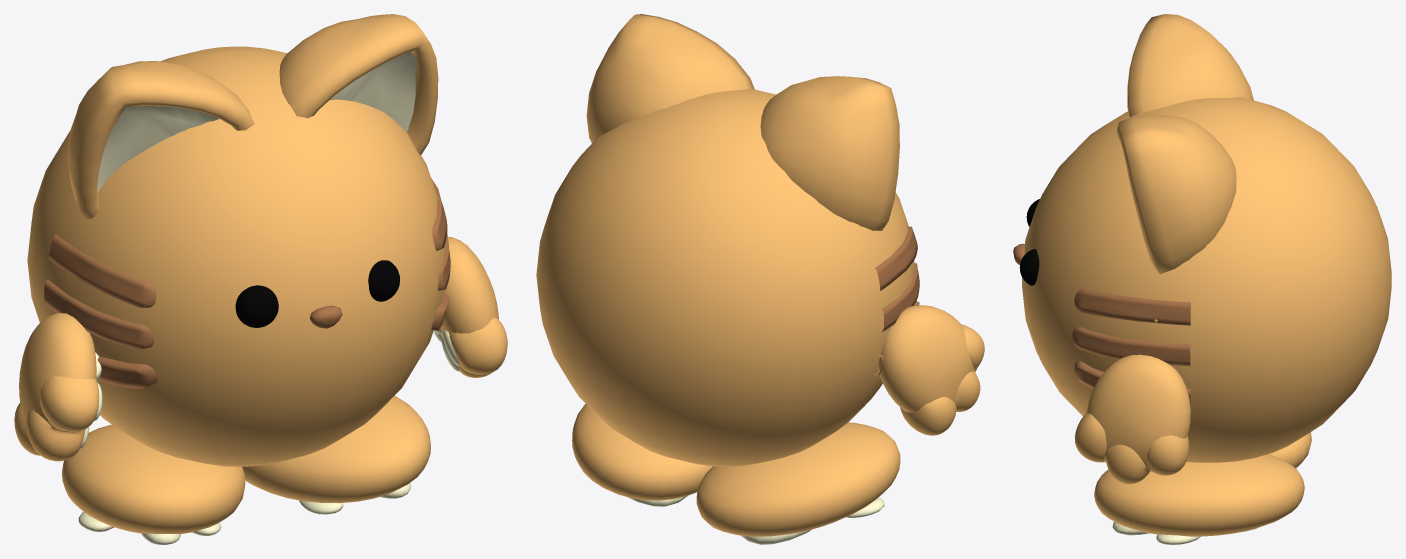
The model's file is cat.glb.
The picture shows the model from 3 angles, left to right: view 1: azimuth 30°, elevation 25°; view 2: azimuth 150°, elevation 25°; view 3: azimuth 270°, elevation 25°; orthographic projection. The views are drawn at different scales.
Parts seen in each view (by area): view 1: Sphere.003, Sphere.004, Sphere.002, Cube, Cube.011, Cube.012, Plane.003, Cube.023, Cube.010, Cube.001, Sphere, Plane.001 (+1 smaller); view 2: Sphere.003, Cube.011, Sphere.004, Cube, Cube.012, Sphere.002, Plane.003; view 3: Sphere.003, Cube, Sphere.002, Cube.023, Cube.011, Plane.001, Sphere.004, Sphere.001.
Part boxes in pixels (<box>): Sphere.003: <box>27,46,446,466</box>; Sphere.004: <box>62,424,245,533</box>; Sphere.002: <box>242,395,430,503</box>; Cube: <box>279,14,438,154</box>; Cube.011: <box>68,61,254,220</box>; Cube.012: <box>14,313,99,461</box>; Plane.003: <box>44,234,157,388</box>; Cube.023: <box>440,236,507,377</box>; Cube.010: <box>97,106,219,191</box>; Cube.001: <box>330,52,416,131</box>; Sphere: <box>235,285,278,327</box>; Plane.001: <box>431,178,450,330</box>; Sphere.003: <box>536,89,915,466</box>; Cube.011: <box>760,76,899,230</box>; Sphere.004: <box>696,422,900,536</box>; Cube: <box>586,14,754,143</box>; Cube.012: <box>878,305,984,435</box>; Sphere.002: <box>572,403,712,500</box>; Plane.003: <box>873,226,919,376</box>; Sphere.003: <box>1022,97,1391,462</box>; Cube: <box>1116,114,1236,274</box>; Sphere.002: <box>1094,454,1304,536</box>; Cube.023: <box>1074,354,1190,484</box>; Cube.011: <box>1127,14,1253,117</box>; Plane.001: <box>1072,289,1190,408</box>; Sphere.004: <box>1268,432,1311,467</box>; Sphere.001: <box>1019,249,1039,285</box>.
Bounding box in the file's own units: 2.56 × 2.52 × 2.04.
